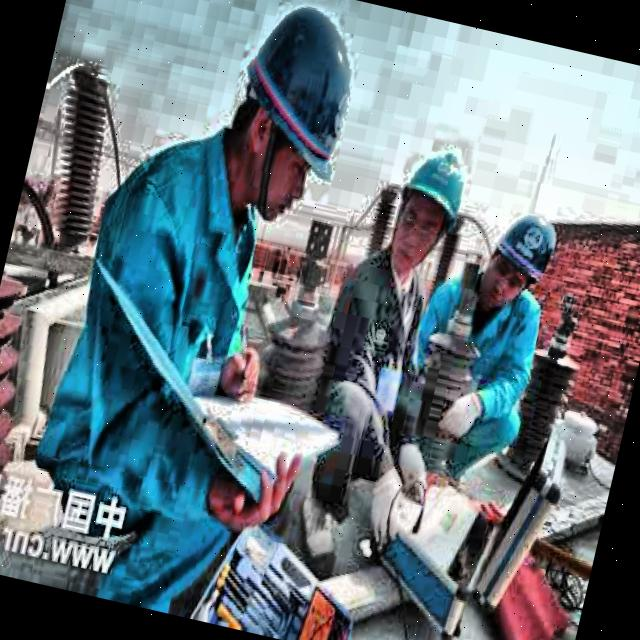helmet: (201, 0, 383, 237), (380, 137, 474, 286), (478, 202, 559, 315)
